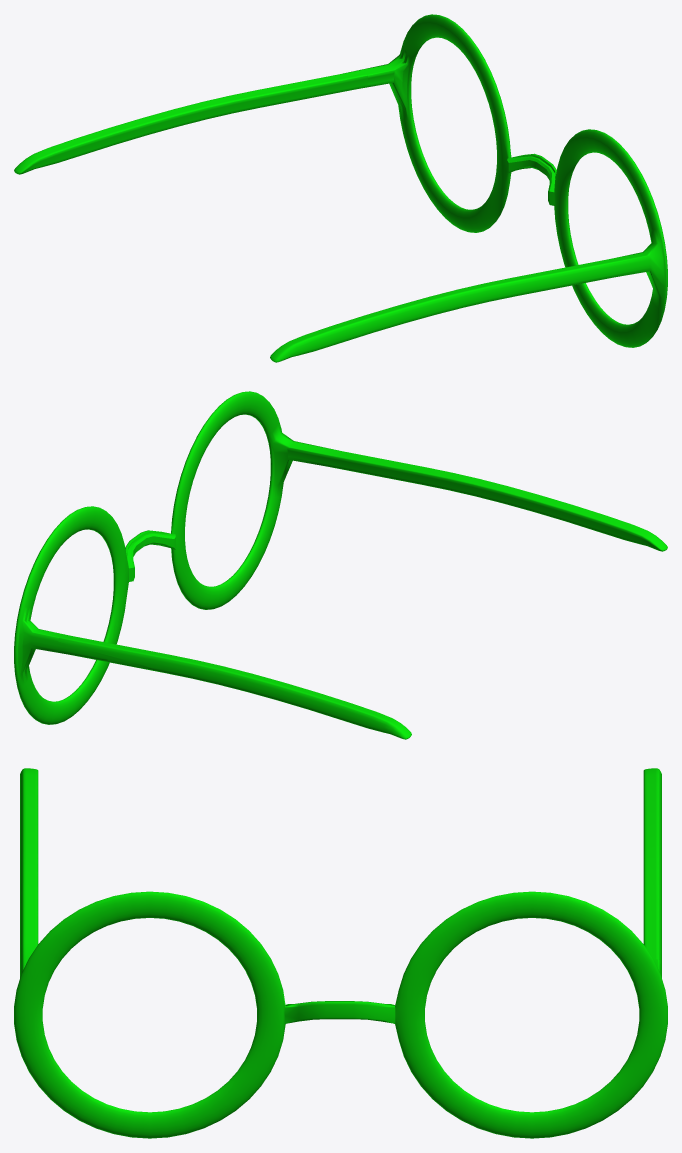
Rendered from Glasses.fbx.
3 views of the same model, one above another, from view 1: azimuth 30°, elevation 25°; view 2: azimuth 150°, elevation 25°; view 3: azimuth 270°, elevation 25° (orthographic). The views are drawn at different scales.
Parts seen in each view (by area): view 1: NEEERD; view 2: NEEERD; view 3: NEEERD.
Part boxes in pixels (bbox=[...]): NEEERD: bbox=[14, 14, 667, 362]; NEEERD: bbox=[14, 391, 667, 739]; NEEERD: bbox=[14, 768, 667, 1138].
Size of the model in its own units: 12.63 by 6.06 by 14.54.
